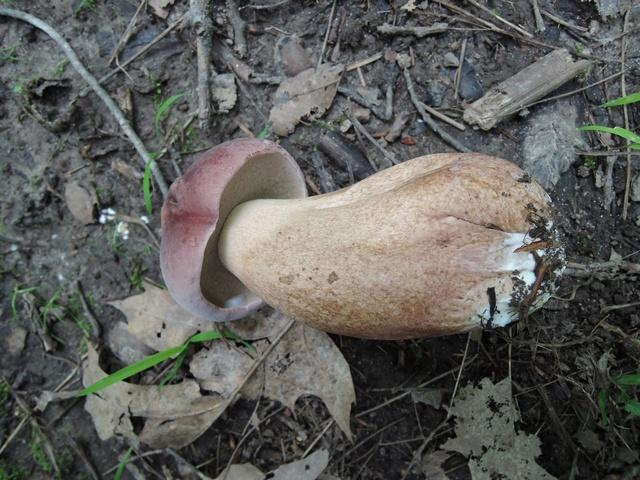Non-edible Mushroom: (158, 136, 565, 341)
